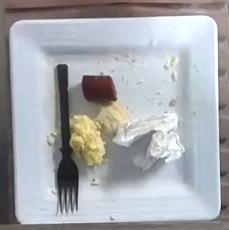biscuit: (96, 102, 129, 142)
sausage: (70, 115, 105, 165), (82, 75, 117, 103)
